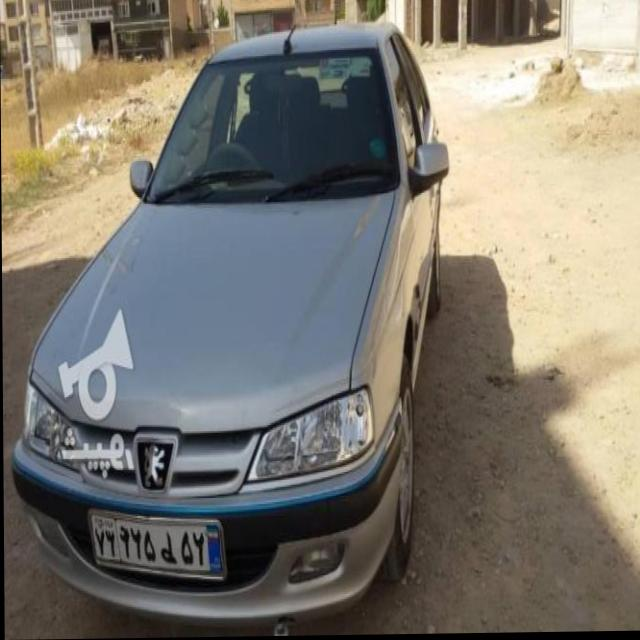licence: (85, 502, 229, 583)
